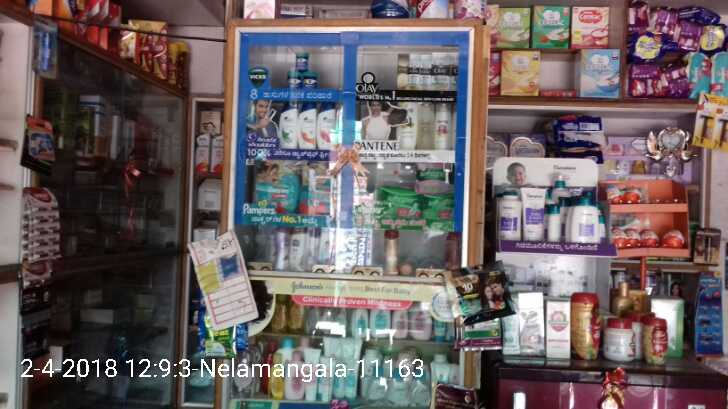vicks: (285, 72, 303, 86), (296, 52, 308, 71), (303, 72, 318, 85)
